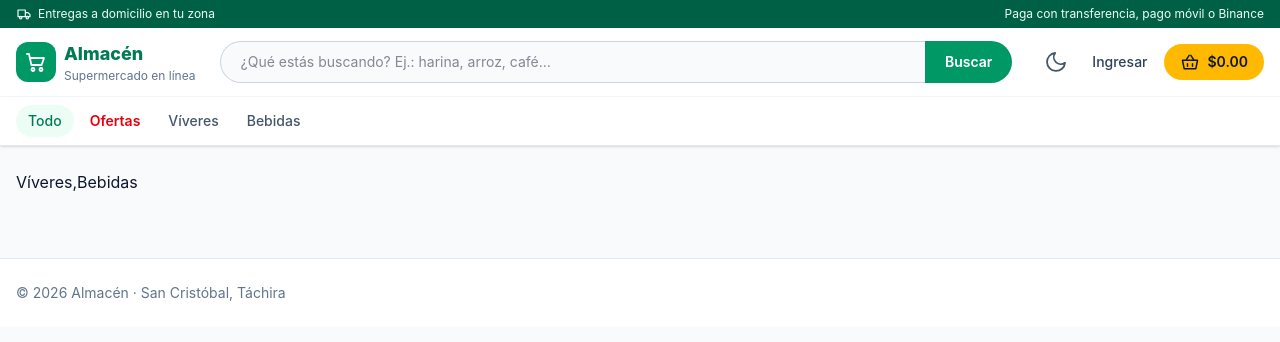
Test: TiendaLayout: categorías › elegir una categoría la pone en la URL
Click the link "Bebidas" at x=274, y=120, box [247,112,300,129]
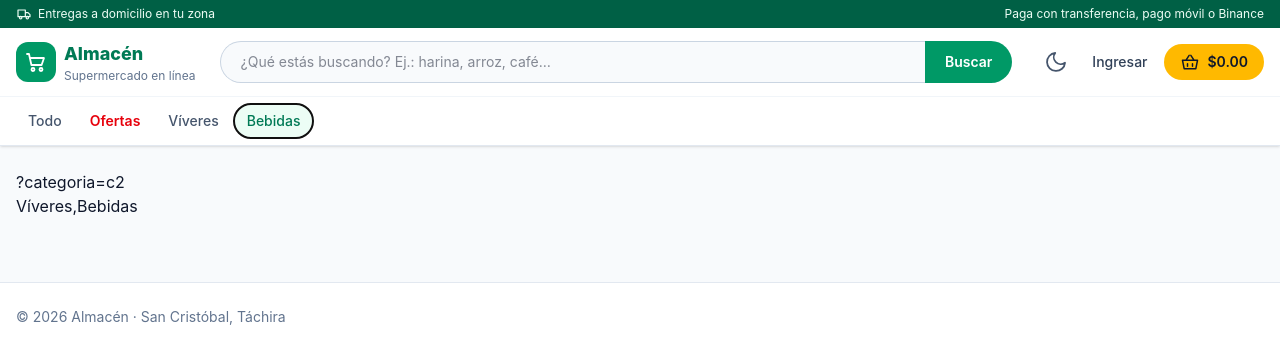
Now the text with test id "busqueda" reads "?categoria=c2", box [16,172,125,192]
